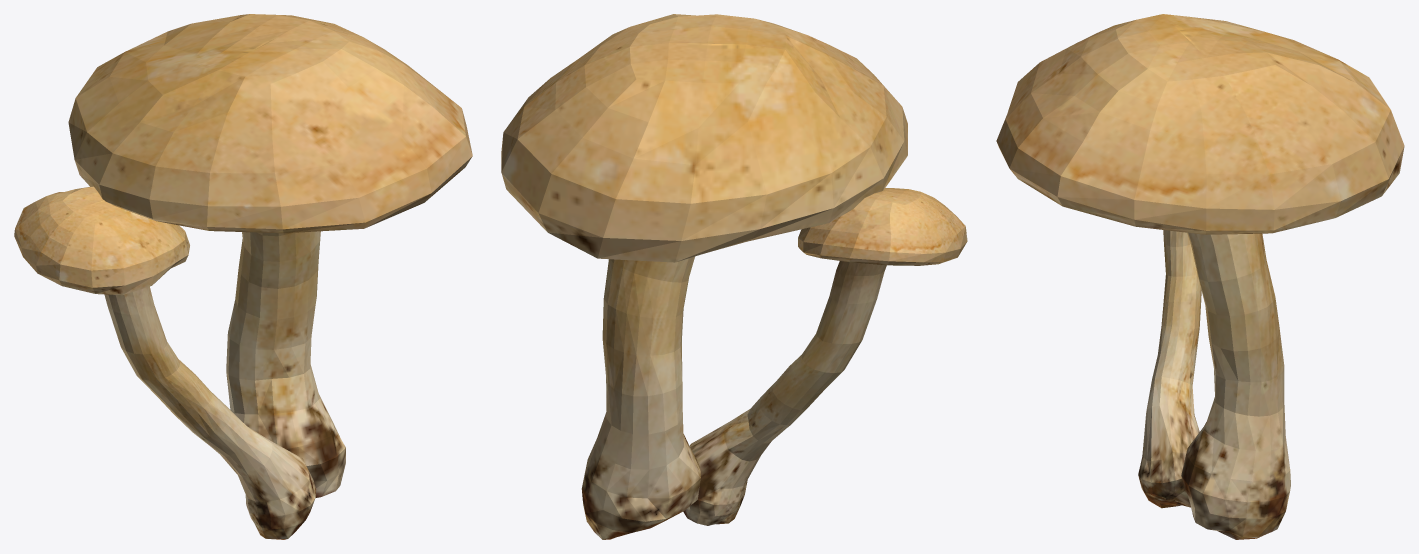
The model's file is P_Pinggu_02.obj.
The picture shows the model from 3 angles, left to right: view 1: azimuth 30°, elevation 25°; view 2: azimuth 150°, elevation 25°; view 3: azimuth 270°, elevation 25°; orthographic projection. The views are drawn at different scales.
Bounding box in the file's own units: 0.4401 × 0.4952 × 0.3904.
1 material, 1 textured.
